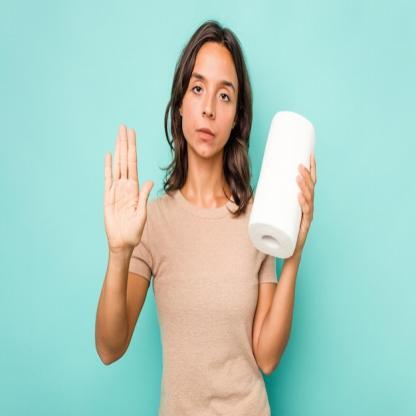stop: (100, 122, 156, 260)
